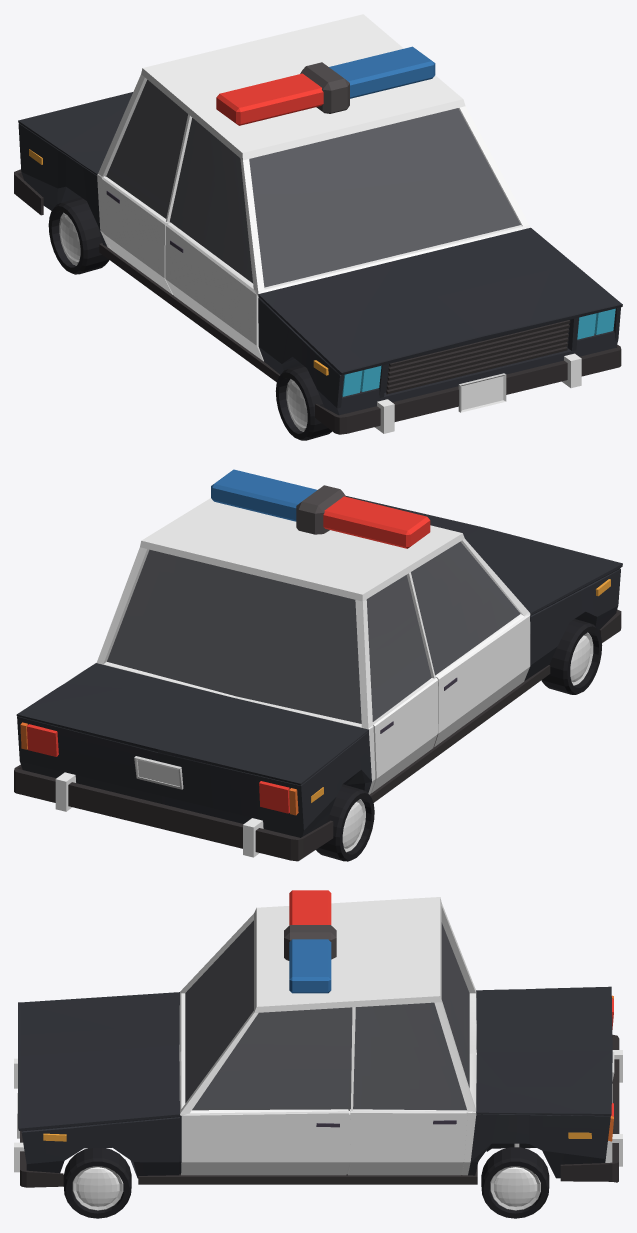
The model's file is car.fbx.
3 renders of one model, top to bottom at view 1: azimuth 30°, elevation 25°; view 2: azimuth 150°, elevation 25°; view 3: azimuth 270°, elevation 25°, orthographic. The views are drawn at different scales.
Parts seen in each view (by area): view 1: car; view 2: car; view 3: car.
Boxes of the visible parts, x1,y1,x2,y2 form: car: (14,14,622,440); car: (14,469,622,861); car: (14,890,622,1218).
Size of the model in its own units: 218 by 175 by 425.
